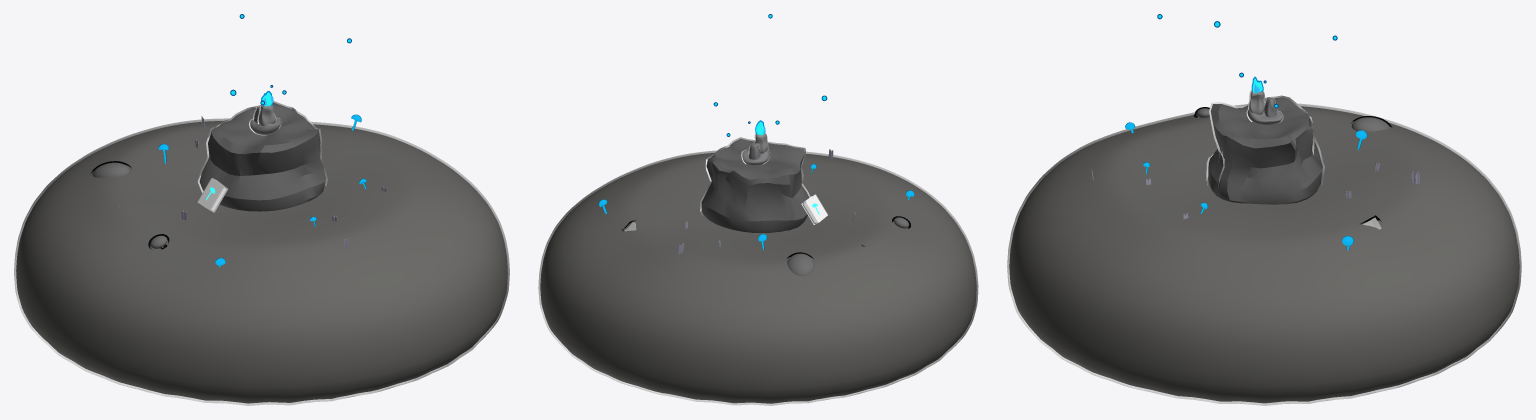
File: magic_mushroom_altar.glb
3 renders of one model, left to right at view 1: azimuth 30°, elevation 25°; view 2: azimuth 150°, elevation 25°; view 3: azimuth 270°, elevation 25°, orthographic. The views are drawn at different scales.
Visible parts, largest first — view 1: Cylinder.046_0; view 2: Cylinder.046_0; view 3: Cylinder.046_0.
Part boxes in pixels (box(x1,y1,x2,y2)): Cylinder.046_0: box(14, 14, 509, 405); Cylinder.046_0: box(538, 14, 978, 405); Cylinder.046_0: box(1007, 14, 1521, 405).
Bounding box in the file's own units: 5.38 × 3.83 × 5.38.
22 materials, 1 textured.
